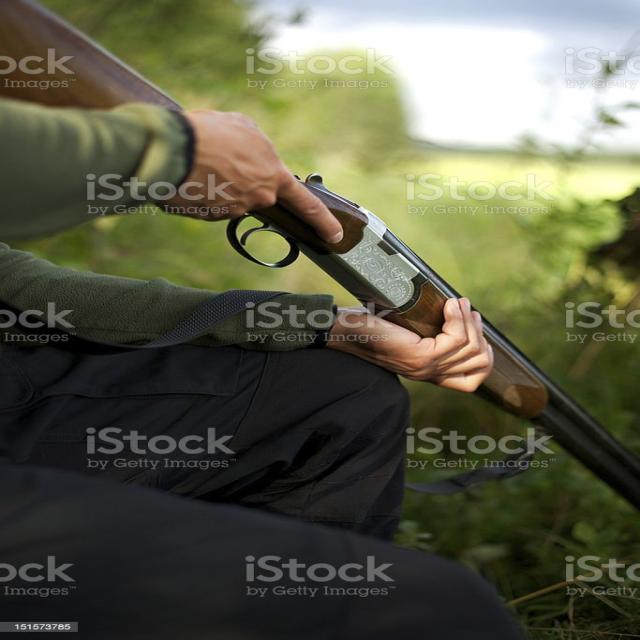ShotGun: (0, 0, 640, 519)
